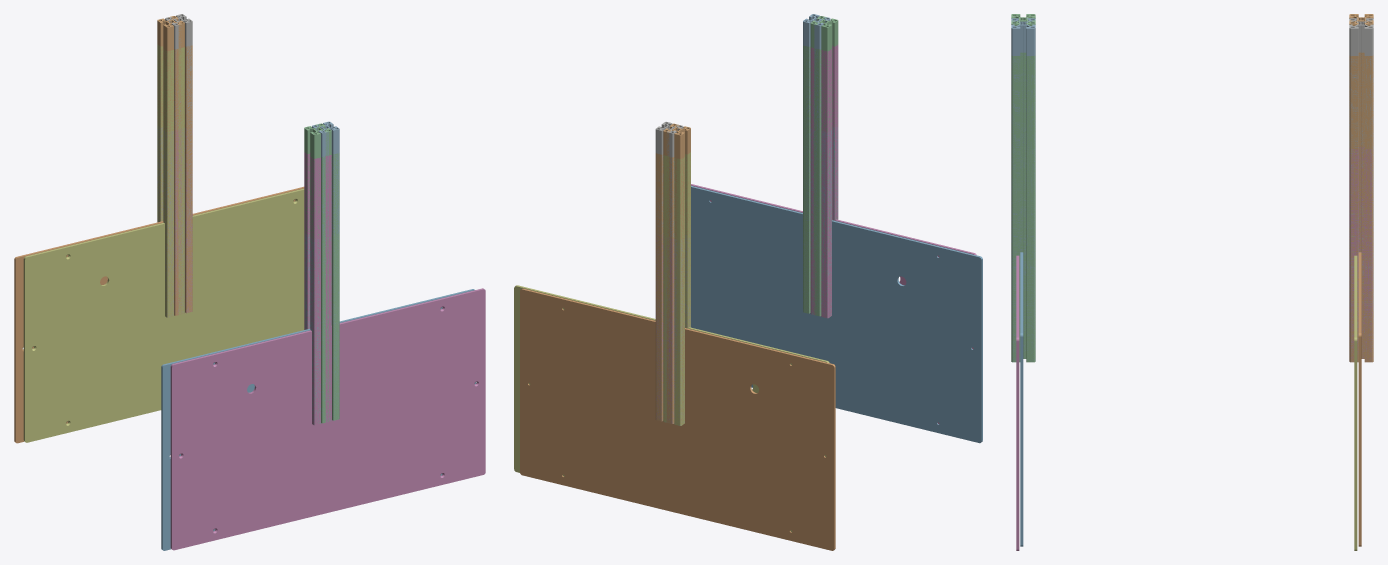
File: case-06_gemini25.glb
3 views of the same model, side by side, from view 1: azimuth 30°, elevation 25°; view 2: azimuth 150°, elevation 25°; view 3: azimuth 270°, elevation 25° (orthographic). The views are drawn at different scales.
Visible parts, largest first — view 1: c00012, c00011, c00002, c00001, c00003, c00004, c00010, c00009, c00013, c00014, c00016, c00008 (+4 smaller); view 2: c00009, c00010, c00001, c00002, c00004, c00003, c00013, c00014, c00011, c00016, c00006, c00015 (+4 smaller); view 3: c00004, c00003, c00008, c00007, c00015, c00016, c00011, c00012, c00009, c00010.
Boxes of the visible parts, left/top/right/bottom form: c00012: left=170, top=288, right=485, bottom=550; c00011: left=23, top=188, right=304, bottom=442; c00002: left=304, top=152, right=331, bottom=425; c00001: left=157, top=44, right=184, bottom=317; c00003: left=174, top=45, right=192, bottom=315; c00004: left=321, top=152, right=339, bottom=423; c00010: left=161, top=289, right=476, bottom=550; c00009: left=14, top=186, right=304, bottom=443; c00013: left=157, top=16, right=184, bottom=315; c00014: left=304, top=123, right=331, bottom=423; c00016: left=312, top=121, right=339, bottom=421; c00008: left=321, top=234, right=339, bottom=422; c00009: left=520, top=288, right=835, bottom=550; c00010: left=691, top=185, right=982, bottom=443; c00001: left=663, top=152, right=690, bottom=425; c00002: left=810, top=44, right=838, bottom=318; c00004: left=803, top=45, right=821, bottom=316; c00003: left=655, top=153, right=674, bottom=423; c00013: left=663, top=123, right=690, bottom=423; c00014: left=810, top=16, right=838, bottom=316; c00011: left=514, top=285, right=829, bottom=531; c00016: left=803, top=14, right=830, bottom=313; c00006: left=811, top=127, right=838, bottom=317; c00015: left=655, top=121, right=683, bottom=423; c00004: left=1011, top=52, right=1035, bottom=362; c00003: left=1349, top=52, right=1373, bottom=362; c00008: left=1011, top=146, right=1035, bottom=362; c00007: left=1349, top=147, right=1373, bottom=361; c00015: left=1349, top=18, right=1373, bottom=359; c00016: left=1011, top=18, right=1035, bottom=361; c00011: left=1354, top=255, right=1357, bottom=550; c00012: left=1016, top=255, right=1019, bottom=550; c00009: left=1358, top=252, right=1361, bottom=546; c00010: left=1020, top=252, right=1023, bottom=546.
Size of the model in its own units: 707 by 805 by 600.
